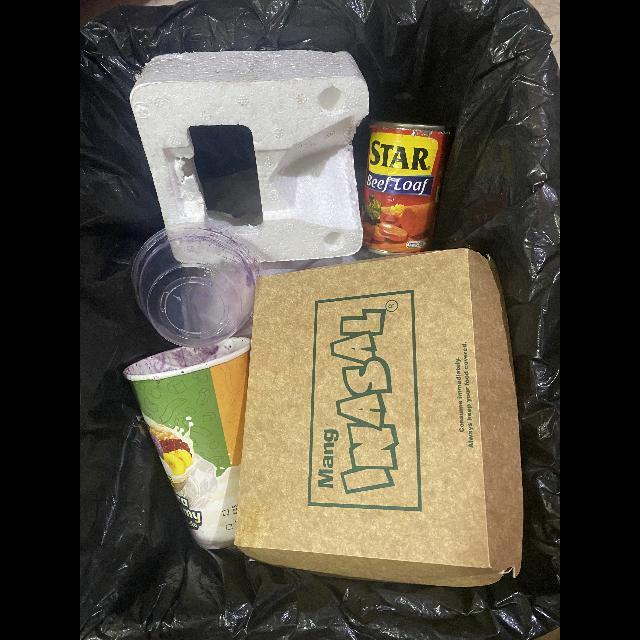aluminum: (362, 122, 448, 254)
cardboard: (233, 249, 524, 590), (123, 336, 252, 551)
plastic_container: (131, 222, 261, 348)
